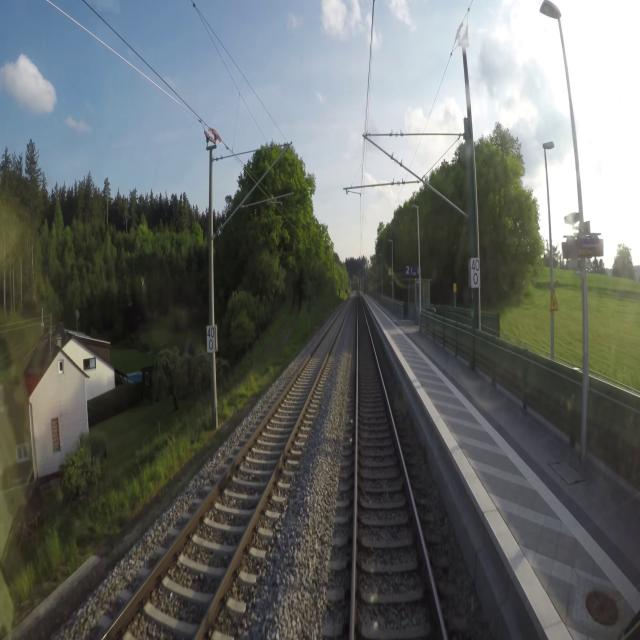rail-track: (105, 299, 350, 639), (354, 294, 442, 639)
